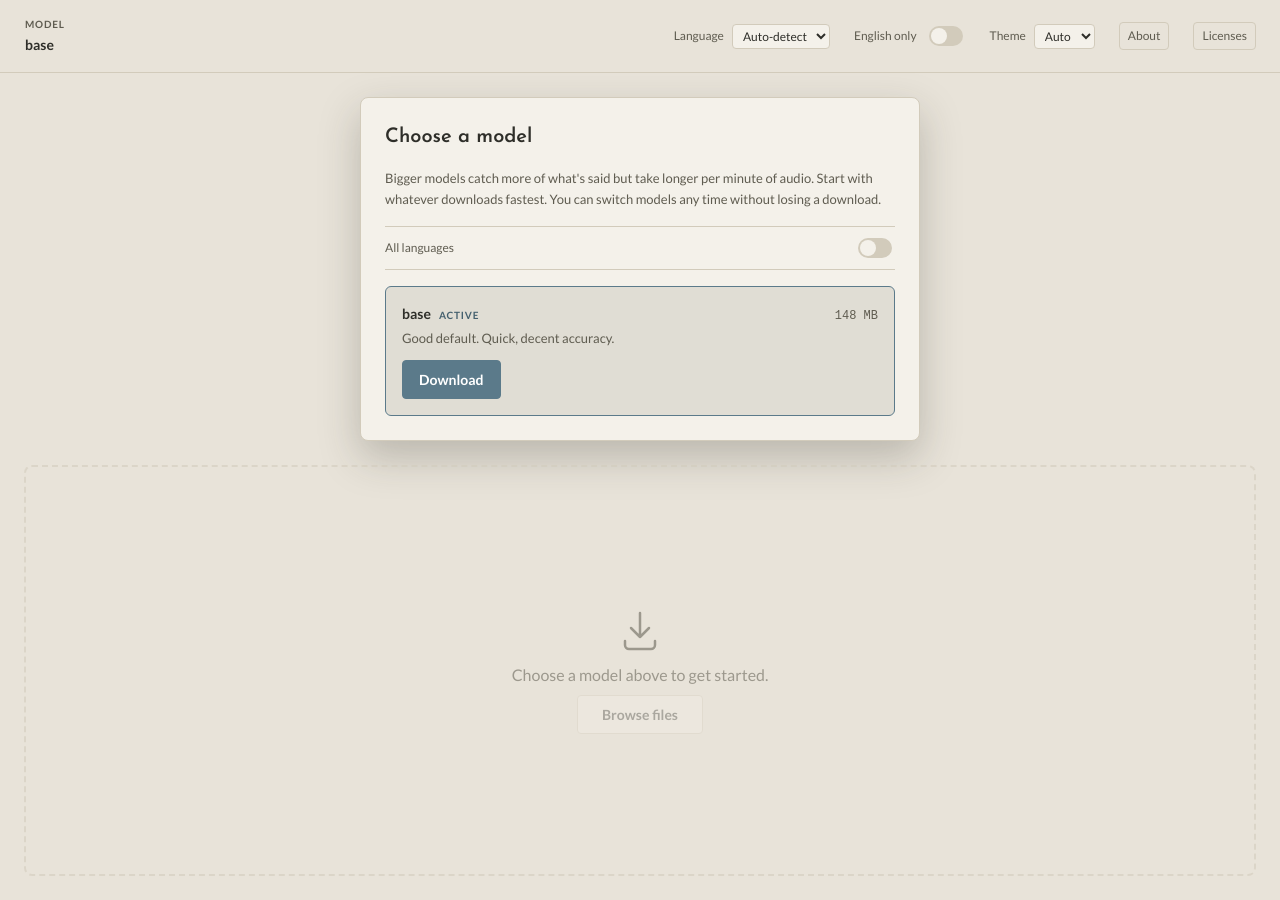
Test: App › downloading a model refreshes the model list and clears the downloading state once it settles
Click the button "Download" at (451, 380), box [402,360,500,399]
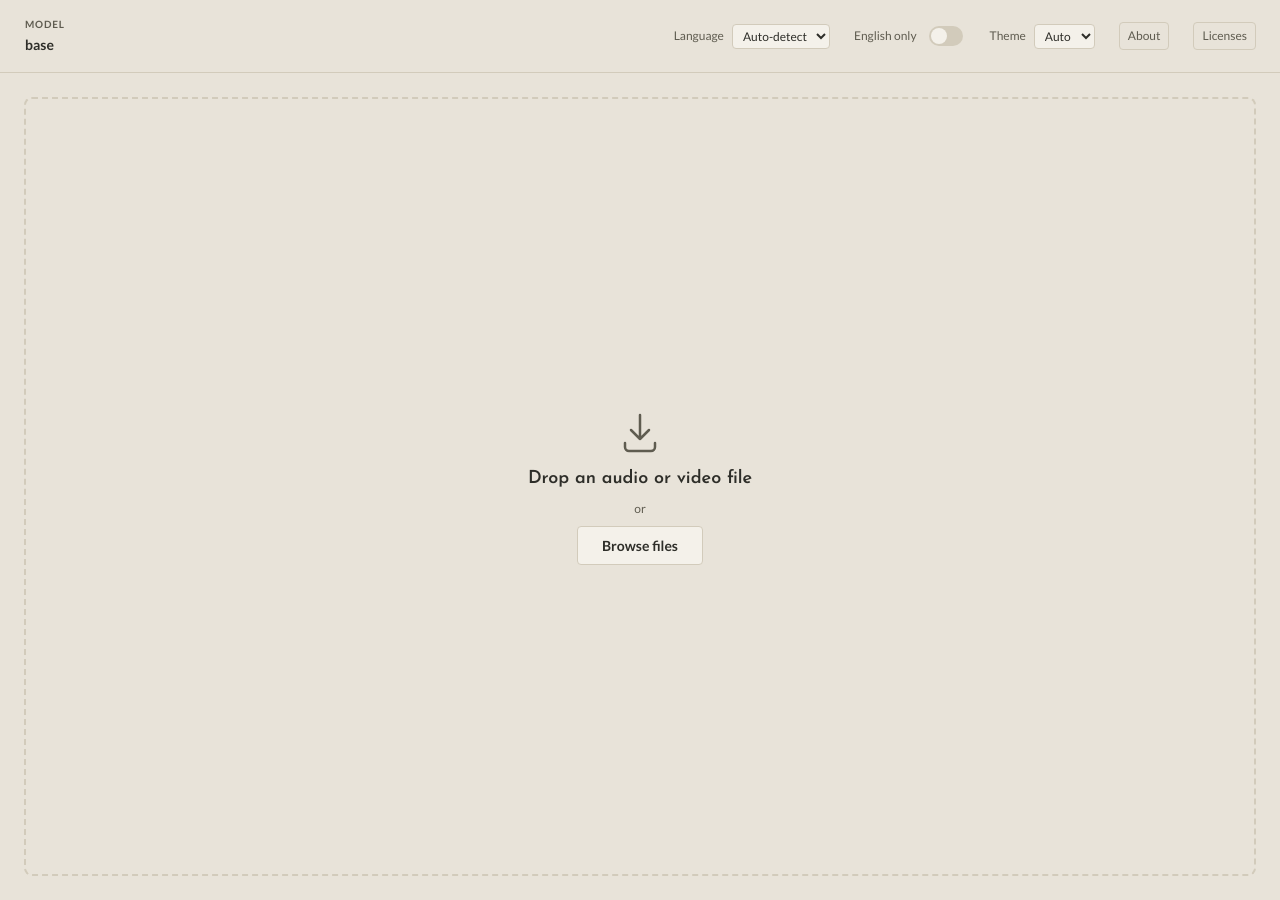
Expected: the button with test id "browse" is shown, [577,526,703,564]
Expected: the text "Download" is gone
